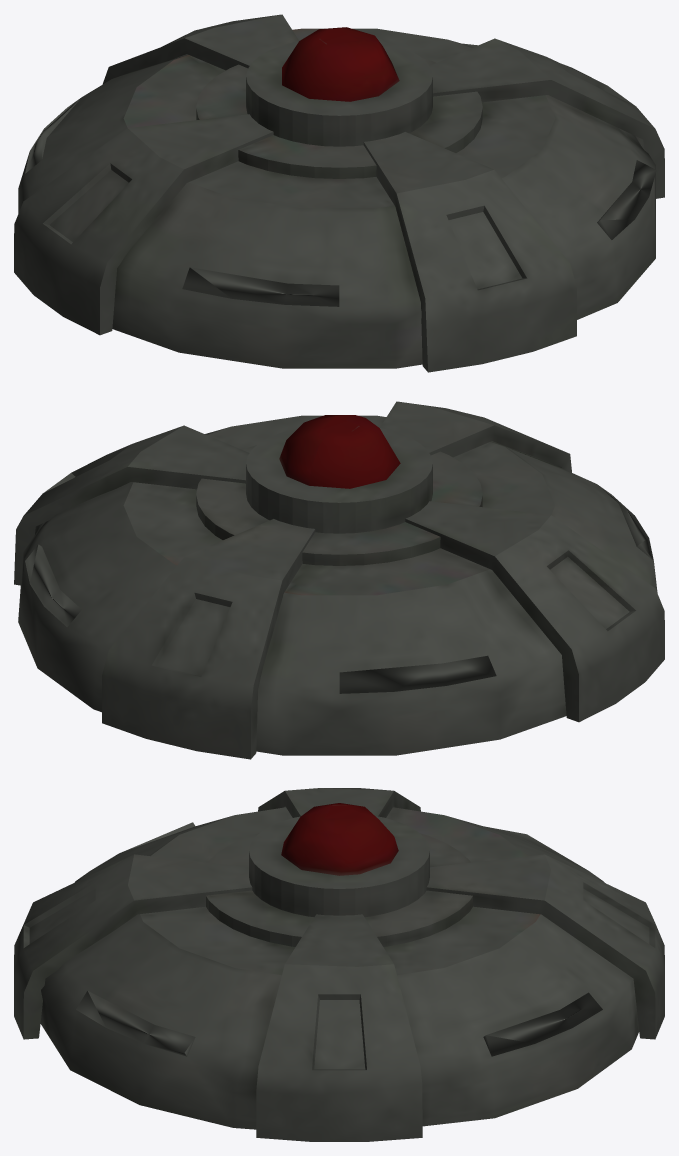
The model's file is mine-0-2.glb.
3 views of the same model, one above another, from view 1: azimuth 30°, elevation 25°; view 2: azimuth 150°, elevation 25°; view 3: azimuth 270°, elevation 25° (orthographic). The views are drawn at different scales.
Visible parts, largest first — view 1: mine-0-2_0; view 2: mine-0-2_0; view 3: mine-0-2_0.
Boxes of the visible parts, x1,y1,x2,y2 form: mine-0-2_0: (14, 14, 664, 372); mine-0-2_0: (14, 401, 664, 759); mine-0-2_0: (14, 788, 664, 1141).
Bounding box in the file's own units: 1 × 0.324 × 1.
Materials: 1 (1 with a texture image).
